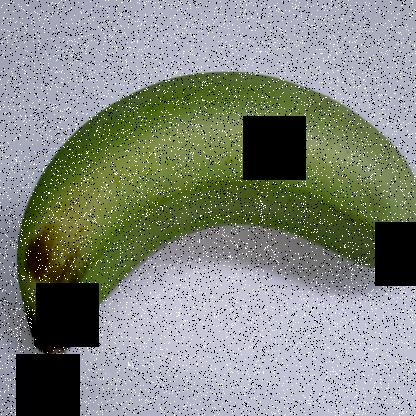freshunripe: (10, 43, 415, 375)
